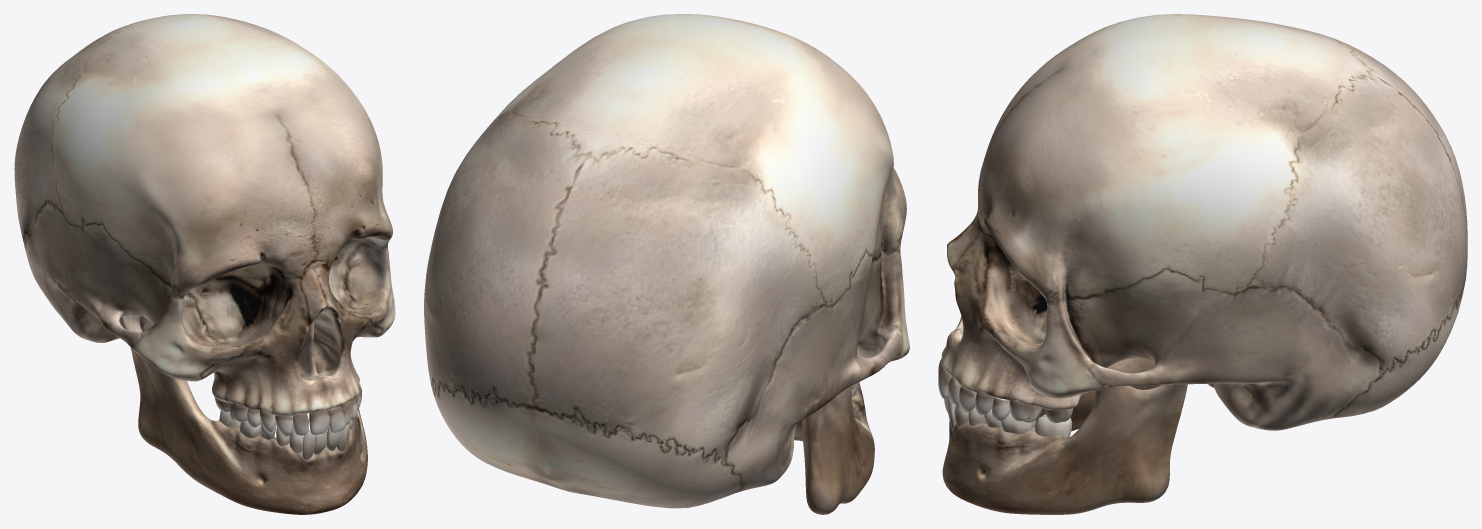
File: skull4.gltf
The picture shows the model from 3 angles, left to right: view 1: azimuth 30°, elevation 25°; view 2: azimuth 150°, elevation 25°; view 3: azimuth 270°, elevation 25°; orthographic projection. The views are drawn at different scales.
Visible parts, largest first — view 1: Default; view 2: Default; view 3: Default.
Part boxes in pixels (left/top/right/bottom): Default: left=14, top=14, right=395, bottom=514; Default: left=424, top=14, right=909, bottom=514; Default: left=938, top=14, right=1467, bottom=514.
Size of the model in its own units: 349 by 484 by 518.
Materials: 1 (1 with a texture image).
